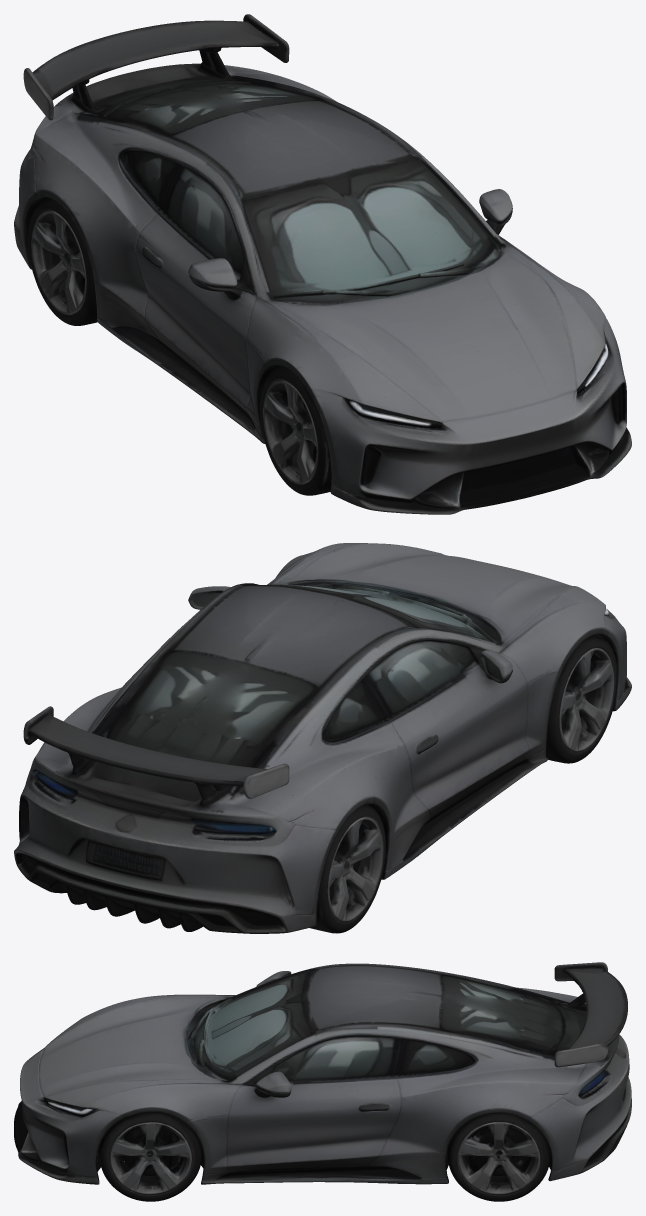
File: car-2.glb
3 renders of one model, top to bottom at view 1: azimuth 30°, elevation 25°; view 2: azimuth 150°, elevation 25°; view 3: azimuth 270°, elevation 25°, orthographic. The views are drawn at different scales.
Visible parts, largest first — view 1: Car_Coupe_HQ; view 2: Car_Coupe_HQ; view 3: Car_Coupe_HQ.
Part boxes in pixels (x1,y1,x2,y2): Car_Coupe_HQ: (14, 14, 631, 514); Car_Coupe_HQ: (14, 543, 631, 933); Car_Coupe_HQ: (14, 962, 631, 1201).
Bounding box in the file's own units: 2.03 × 1.3 × 4.55.
1 material, 1 textured.
